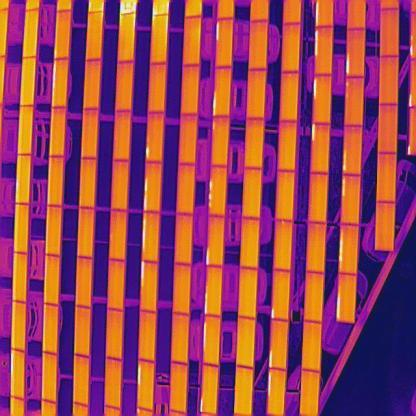Diode: (340, 174, 362, 225), (140, 260, 160, 313), (346, 27, 366, 78), (311, 124, 331, 174), (314, 25, 334, 75), (213, 66, 232, 118), (312, 74, 332, 123), (146, 110, 164, 164), (207, 216, 226, 267), (336, 273, 356, 321), (344, 125, 363, 175), (52, 58, 70, 109), (142, 211, 160, 262), (340, 223, 358, 274), (204, 266, 222, 317), (144, 161, 162, 211), (202, 315, 220, 365), (270, 319, 288, 369), (216, 18, 234, 68), (137, 361, 155, 410), (201, 366, 219, 414), (268, 369, 286, 416), (10, 351, 24, 399)
Hotspot: (344, 76, 364, 126), (209, 166, 228, 216), (272, 270, 290, 320)
Normal: (275, 170, 296, 221), (176, 162, 196, 214), (238, 266, 258, 318), (378, 104, 398, 154), (377, 152, 397, 202), (242, 168, 262, 218), (236, 318, 256, 368), (248, 20, 268, 70), (278, 120, 297, 172), (241, 218, 260, 270), (305, 272, 324, 324), (379, 8, 400, 55), (376, 202, 396, 251), (180, 65, 199, 116), (245, 118, 264, 169), (174, 214, 193, 265), (53, 10, 72, 61), (183, 16, 202, 67), (18, 54, 36, 107), (235, 366, 254, 416), (282, 22, 301, 72), (84, 58, 102, 110), (248, 68, 266, 120), (81, 107, 99, 159), (180, 114, 198, 166), (212, 116, 230, 168), (86, 10, 104, 62), (148, 62, 166, 113), (280, 71, 298, 122), (49, 107, 67, 158), (306, 223, 324, 274), (75, 257, 93, 308), (174, 264, 192, 315), (116, 62, 134, 112), (80, 158, 98, 208), (111, 159, 129, 209), (274, 221, 292, 271), (22, 8, 40, 58), (138, 310, 156, 360), (172, 314, 190, 364), (304, 322, 322, 372), (104, 358, 122, 408), (380, 55, 398, 105), (171, 362, 188, 414), (114, 111, 132, 160), (310, 173, 328, 222), (16, 106, 34, 154), (107, 310, 124, 360), (118, 13, 135, 63), (150, 16, 167, 66), (45, 203, 61, 256), (301, 369, 319, 416), (15, 154, 32, 203), (78, 206, 94, 258), (110, 210, 126, 262), (76, 306, 92, 357), (74, 355, 90, 406), (13, 204, 29, 254), (108, 260, 124, 310), (42, 304, 58, 354), (48, 156, 64, 205), (44, 256, 60, 304), (11, 300, 26, 350), (42, 352, 57, 402), (13, 254, 28, 303)
